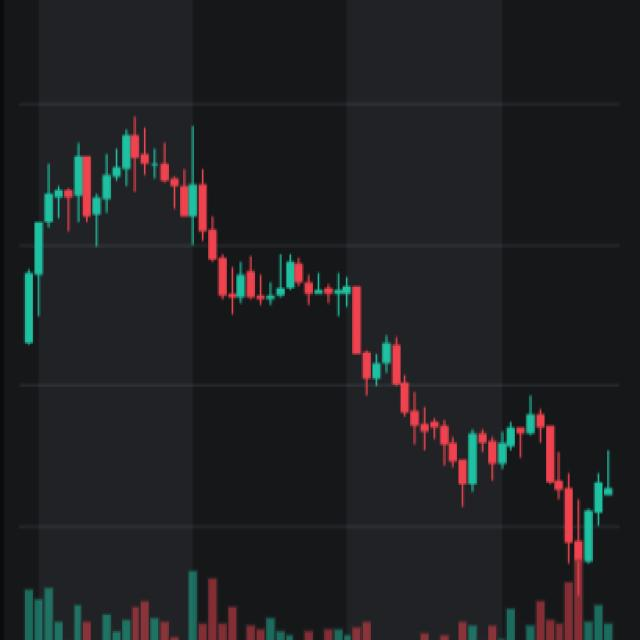Channel-down: (45, 57, 635, 610)
Support-breakout: (262, 237, 494, 521)
